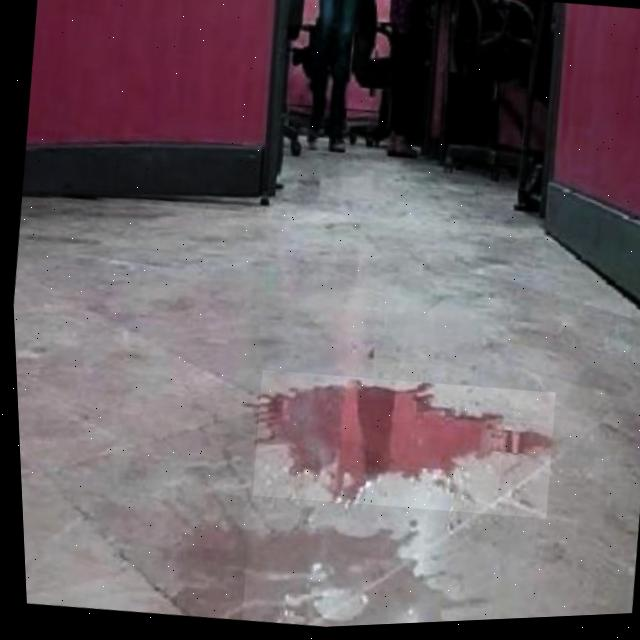spillage: (255, 385, 546, 505)
